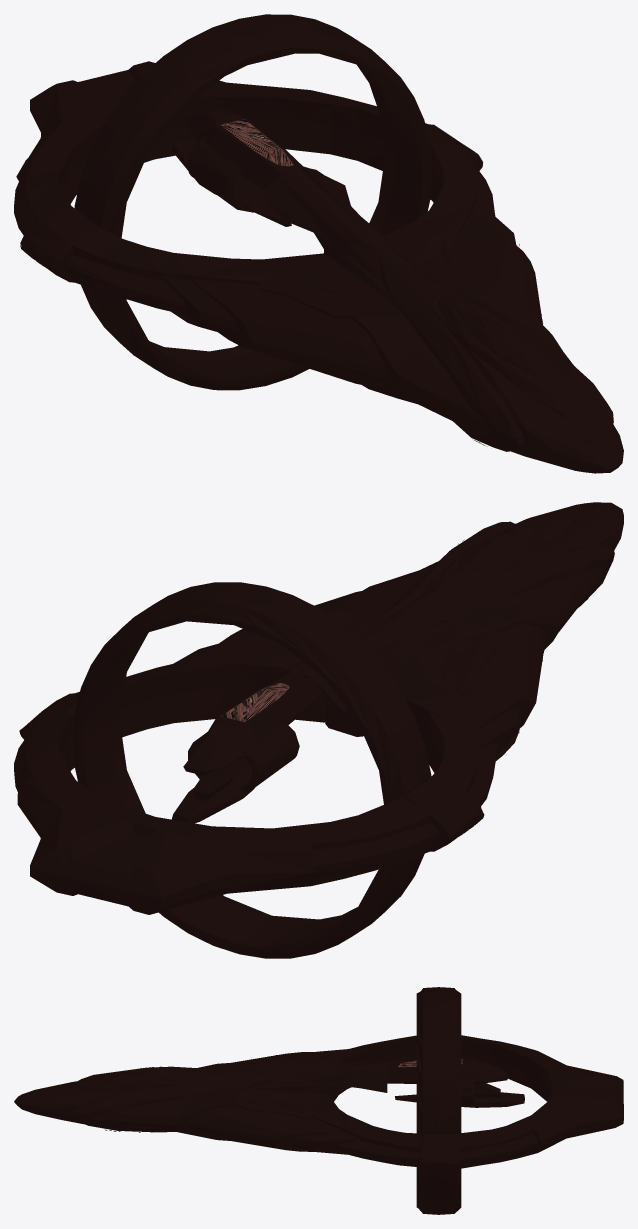
The picture shows the model from 3 angles, top to bottom: view 1: azimuth 30°, elevation 25°; view 2: azimuth 150°, elevation 25°; view 3: azimuth 270°, elevation 25°; orthographic projection. The views are drawn at different scales.
Parts seen in each view (by area): view 1: Dkyr_Class_D`kyr_diffuse_1_0; view 2: Dkyr_Class_D`kyr_diffuse_1_0; view 3: Dkyr_Class_D`kyr_diffuse_1_0.
Part boxes in pixels (x1,y1,x2,y2): Dkyr_Class_D`kyr_diffuse_1_0: (14, 14, 623, 473); Dkyr_Class_D`kyr_diffuse_1_0: (14, 502, 623, 958); Dkyr_Class_D`kyr_diffuse_1_0: (14, 987, 623, 1214).
Bounding box in the file's own units: 359 × 274 × 740.
1 material, 1 textured.
